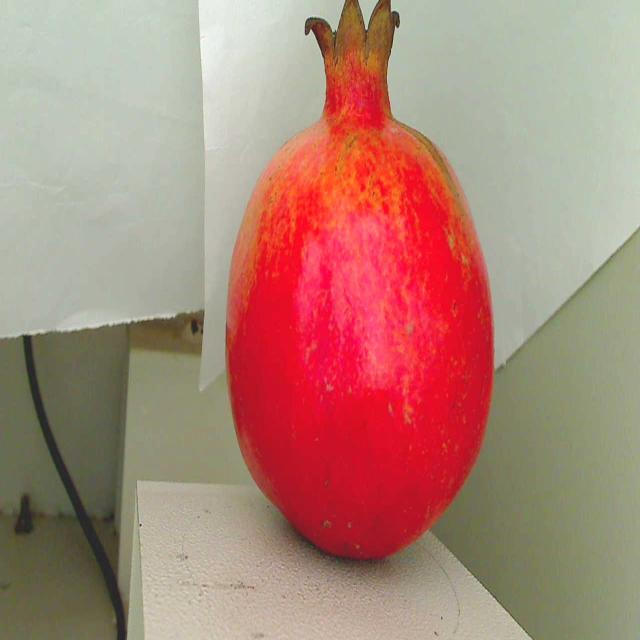pomegranate: (216, 0, 503, 570)
